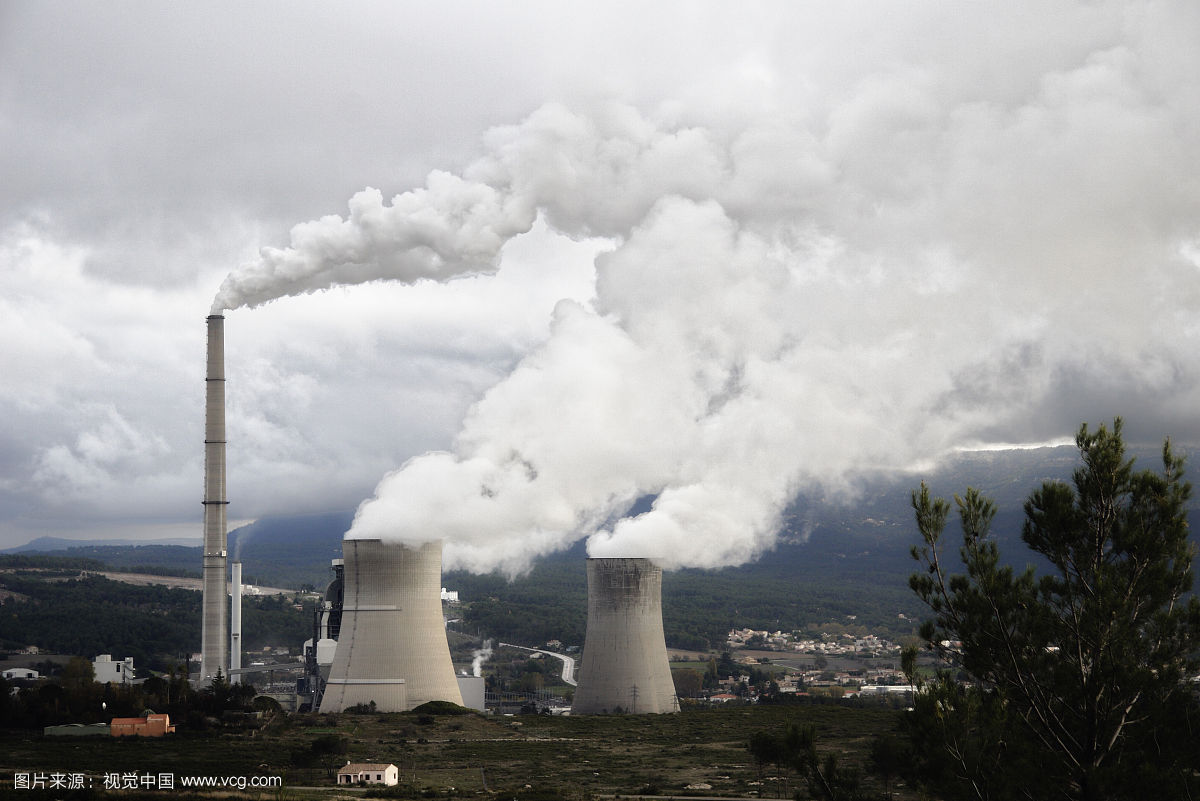dust: (188, 141, 565, 339), (332, 371, 602, 573), (580, 406, 852, 589)
